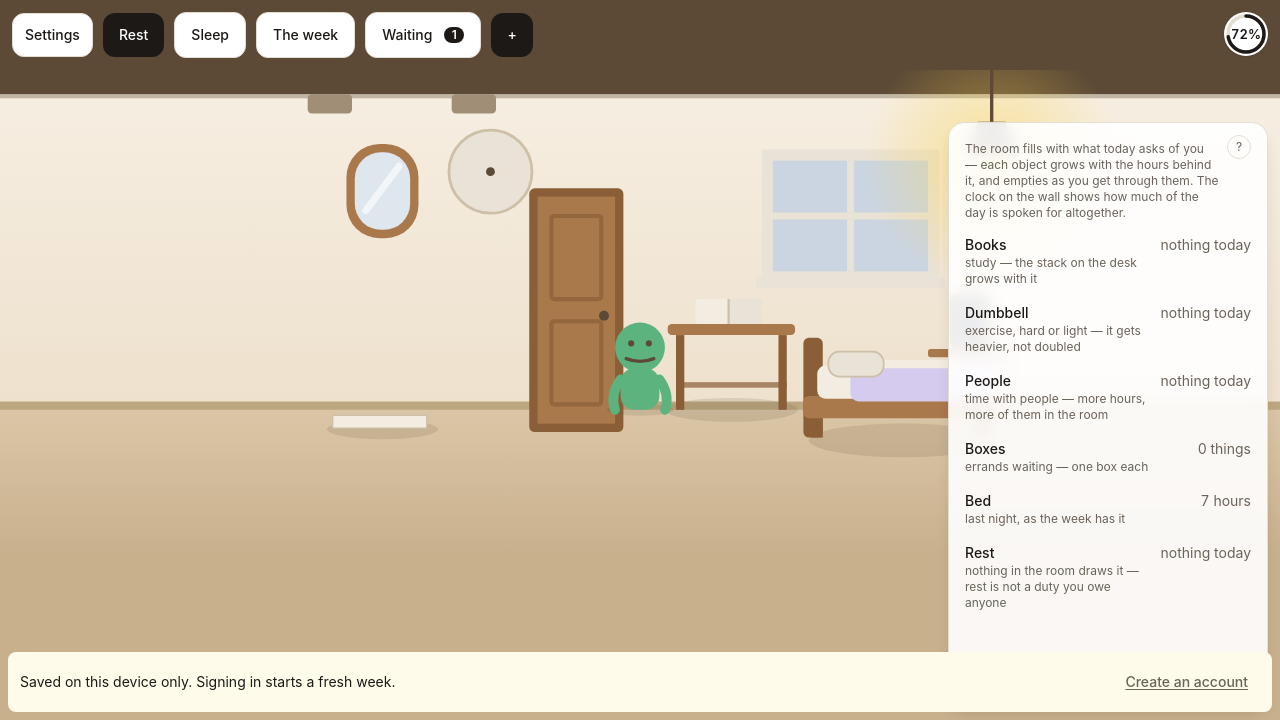
Test: the Rest button › writes nothing when the student backs out
Click the button with test id "open-rest".
click(134, 35)  # box top-left (103, 13), bottom-right (164, 57)
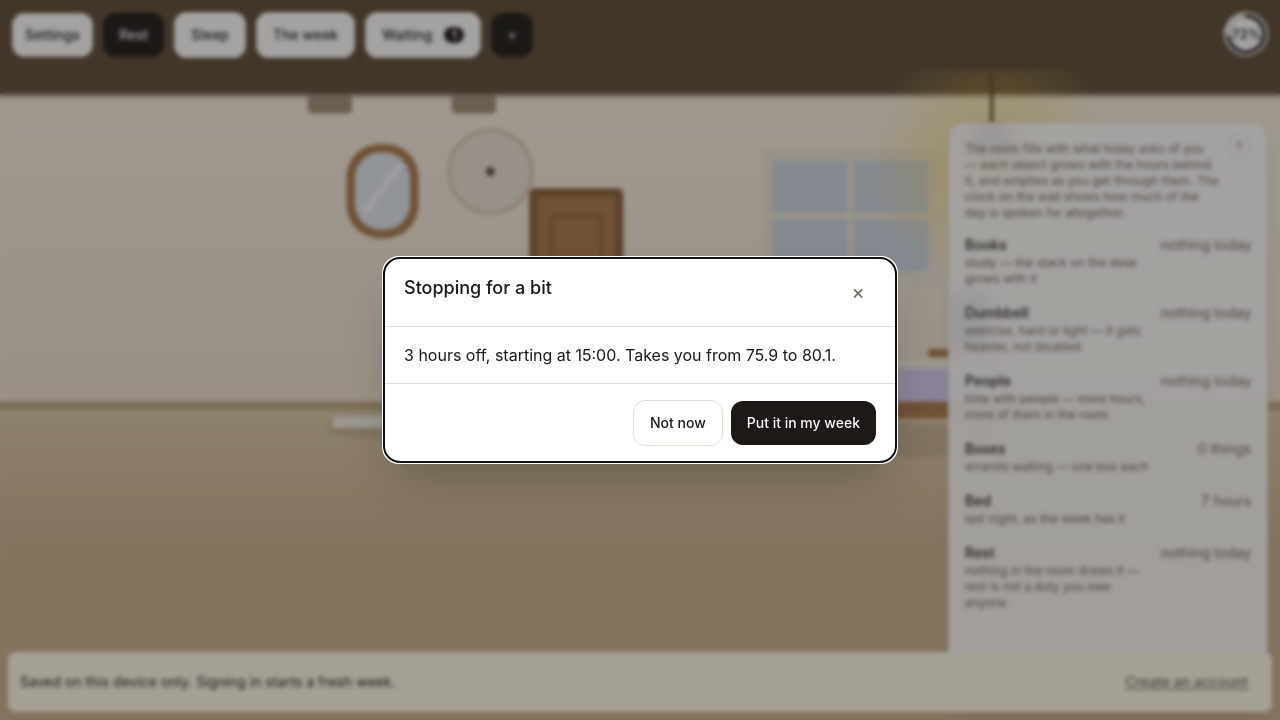
Click the button with test id "discard-rest".
click(678, 423)  # box top-left (633, 400), bottom-right (723, 446)
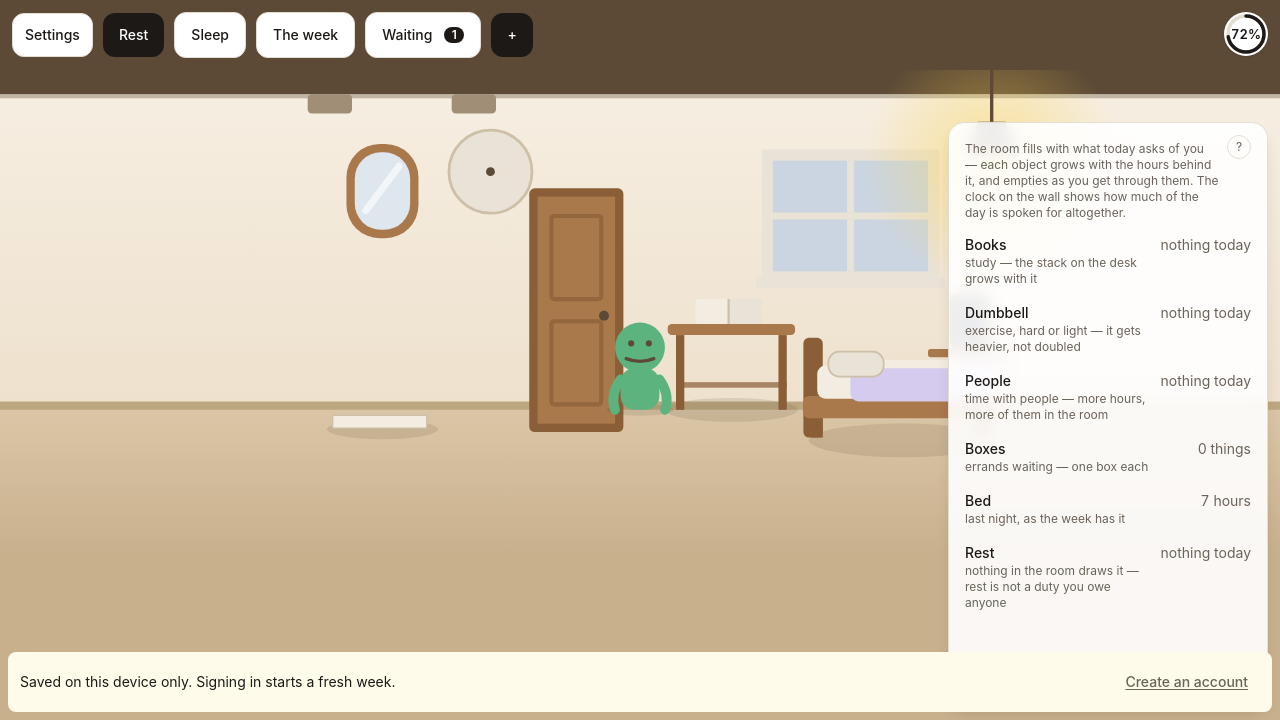
expect the text with test id "rest-summary" is gone: met
